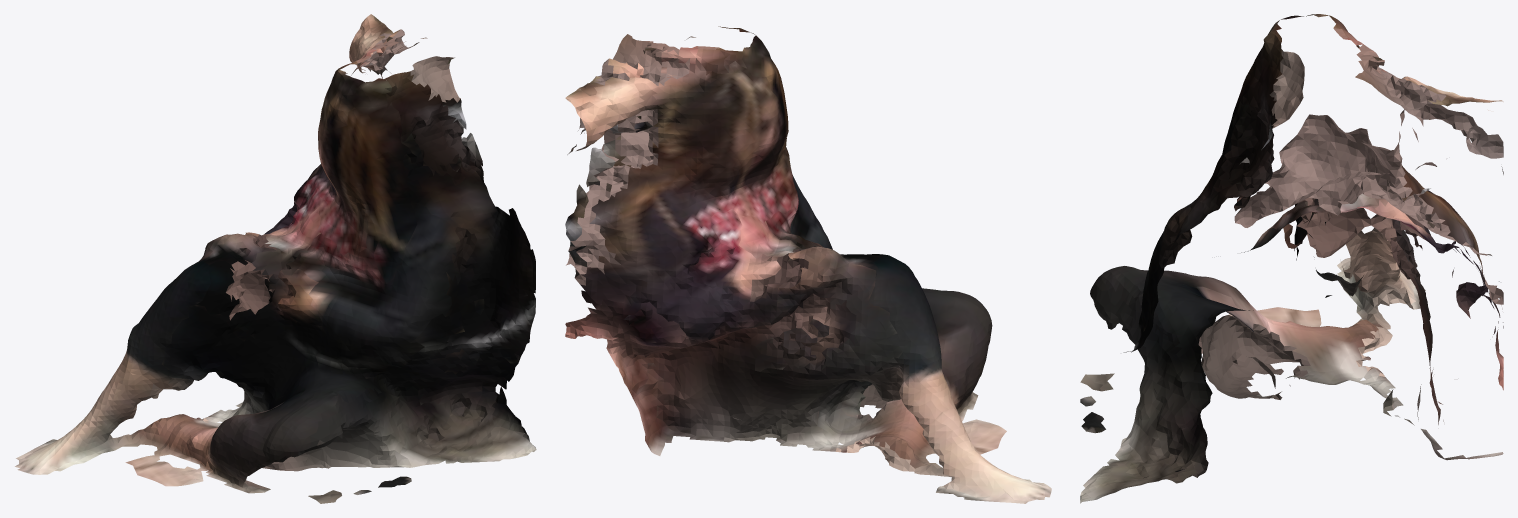
3 views of the same model, side by side, from view 1: azimuth 30°, elevation 25°; view 2: azimuth 150°, elevation 25°; view 3: azimuth 270°, elevation 25° (orthographic). The views are drawn at different scales.
Bounding box in the file's own units: 0.9384 × 0.742 × 0.6618.
Materials: 1 (1 with a texture image).
